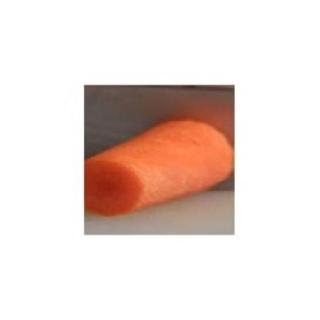carrot: (84, 113, 232, 219)
